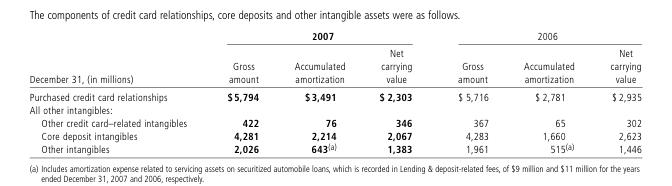table: (28, 29, 640, 154)
table column: (28, 29, 206, 154), (275, 29, 361, 154), (505, 29, 591, 154), (361, 29, 434, 154), (434, 29, 505, 154), (206, 29, 275, 154), (591, 29, 640, 154)
table column header: (28, 29, 640, 87)
table projected row header: (28, 103, 640, 116)
table row: (28, 43, 640, 87), (28, 87, 640, 103), (28, 29, 640, 43), (28, 103, 640, 116), (28, 116, 640, 129), (28, 141, 640, 154), (28, 129, 640, 141)
table spanning cell: (28, 29, 206, 87), (206, 29, 434, 43), (434, 29, 640, 43)
